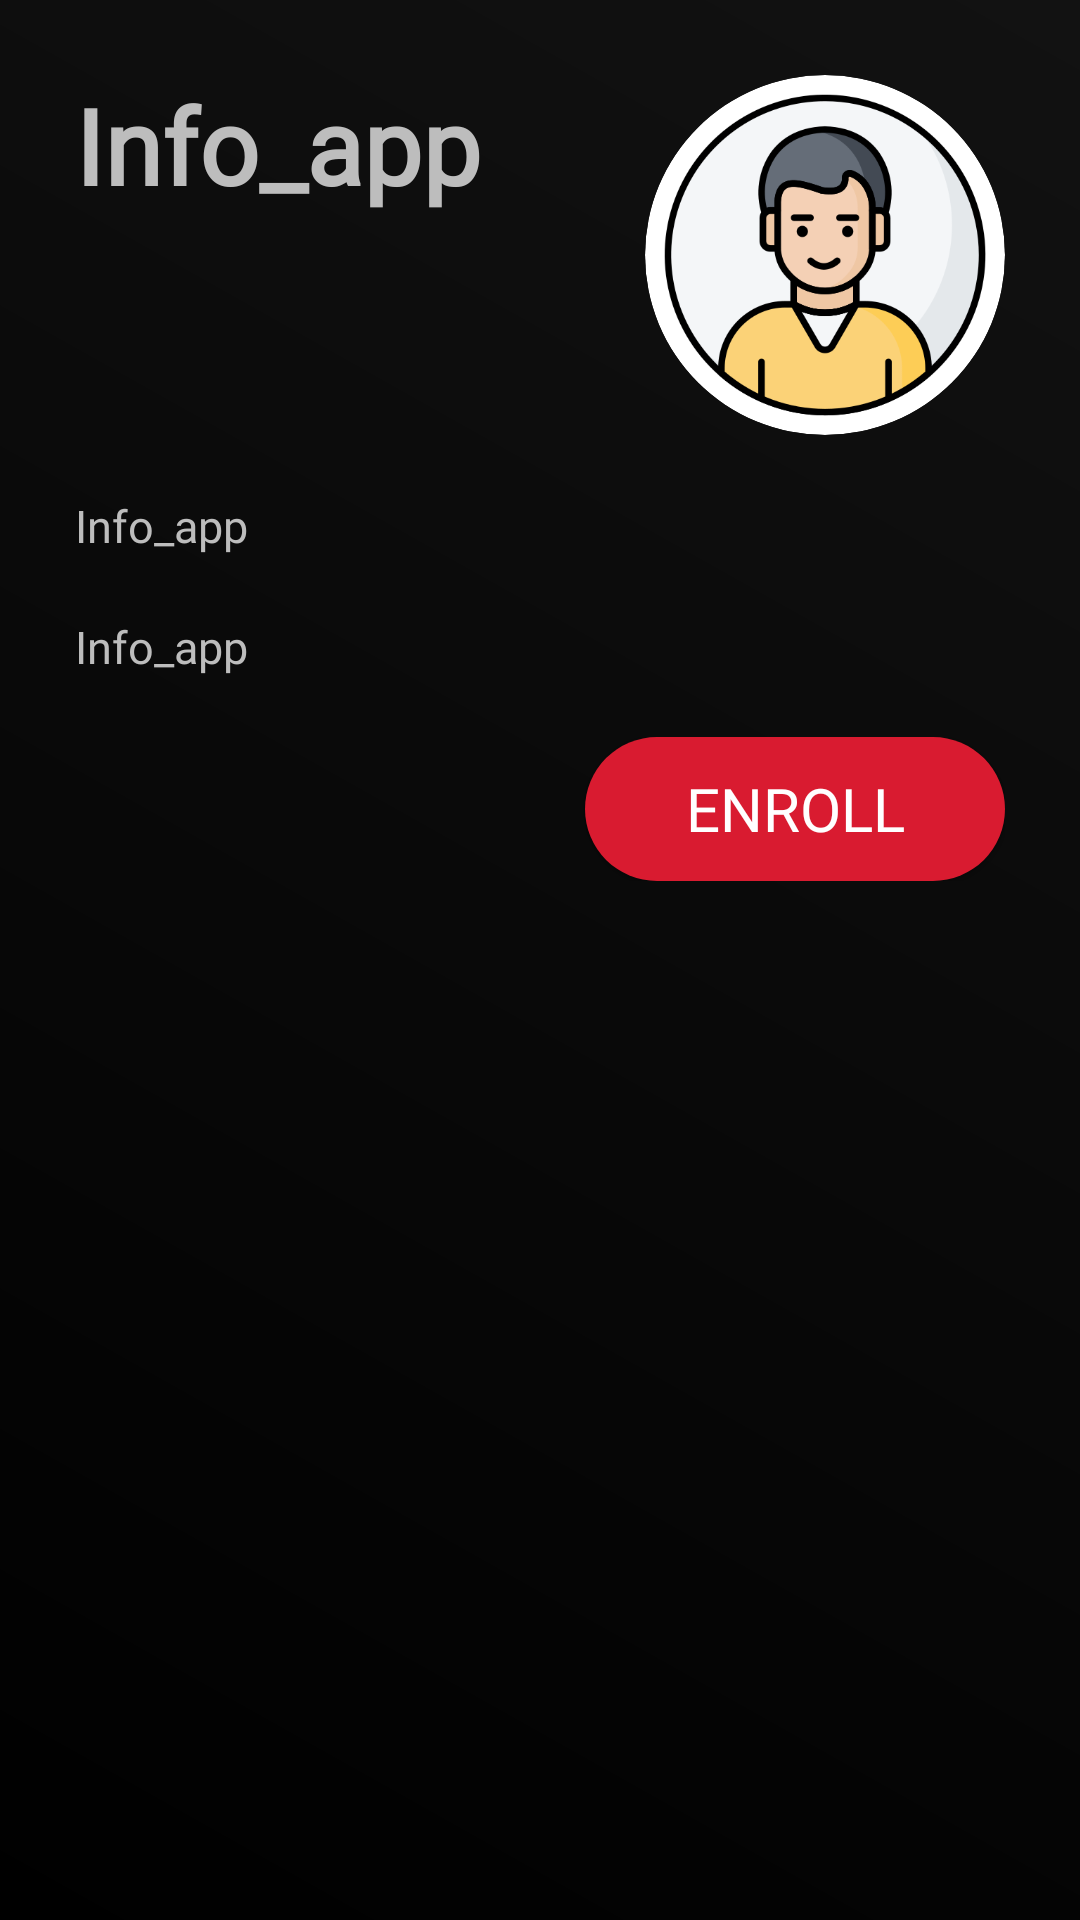

Screen size 1080*1920. Icon name, then its center in pixels as (x,y):
profile pic: (825,255)
